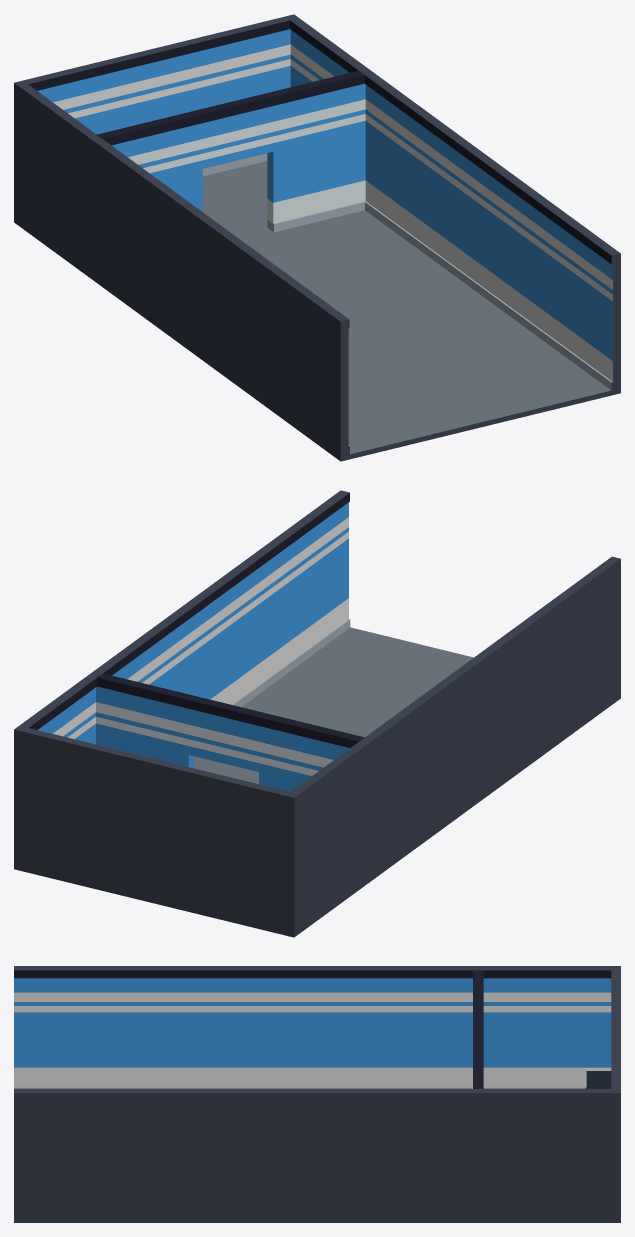
The model's file is Building_LaundromatInterior.fbx.
The picture shows the model from 3 angles, top to bottom: view 1: azimuth 30°, elevation 25°; view 2: azimuth 150°, elevation 25°; view 3: azimuth 270°, elevation 25°; orthographic projection. The views are drawn at different scales.
Visible parts, largest first — view 1: Riven's Room.003; view 2: Riven's Room.003; view 3: Riven's Room.003.
Part boxes in pixels (box(x1,y1,x2,y2)): Riven's Room.003: box(14, 14, 620, 461); Riven's Room.003: box(14, 490, 620, 937); Riven's Room.003: box(14, 966, 620, 1222).
Size of the model in its own units: 631 by 301 by 1275.
